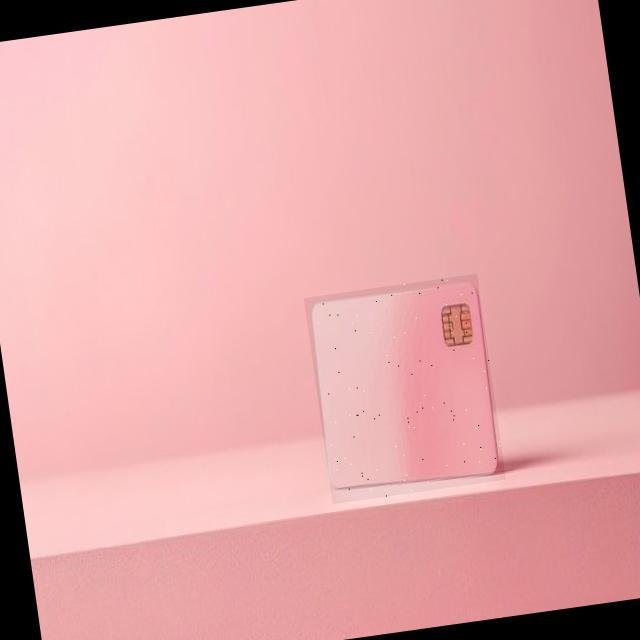payment_card: (303, 272, 499, 501)
